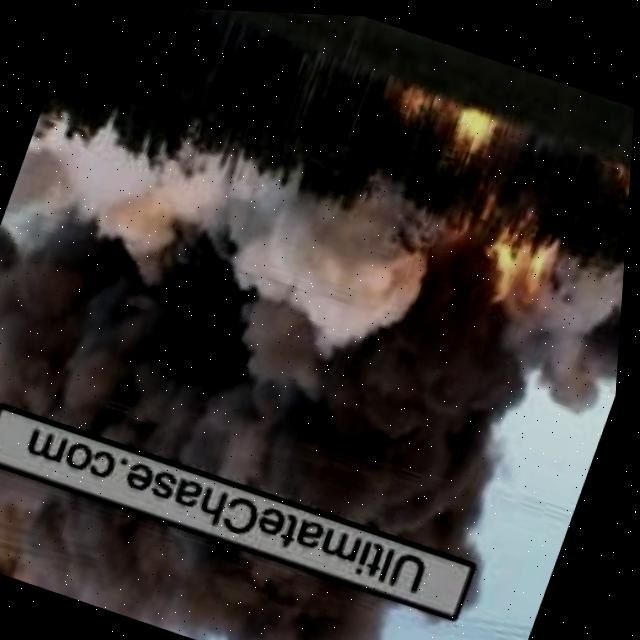Fire: (461, 201, 576, 330), (437, 97, 494, 164), (390, 80, 428, 121), (618, 159, 633, 206)
Smoke: (0, 135, 588, 555), (0, 441, 418, 640)
